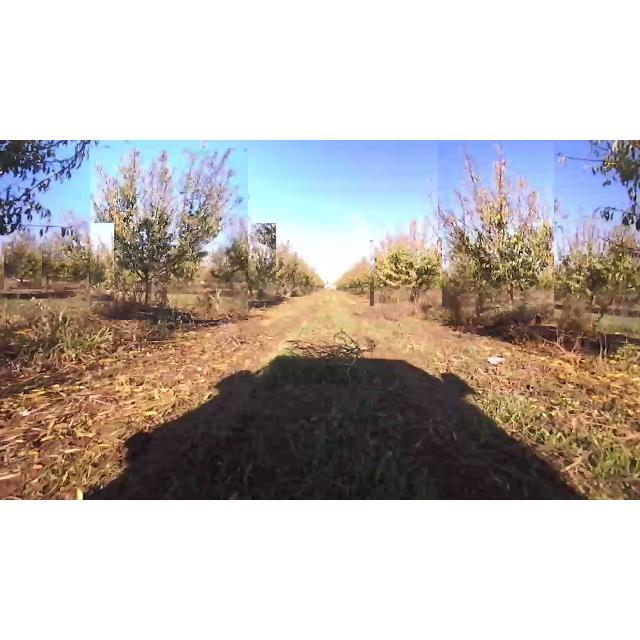direk: (90, 148, 248, 320), (438, 142, 554, 326), (370, 240, 442, 306), (224, 223, 276, 301), (4, 241, 44, 291), (42, 234, 78, 286)
